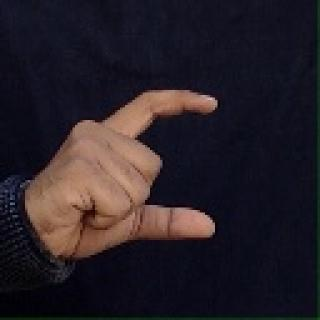C: (43, 69, 235, 261)
